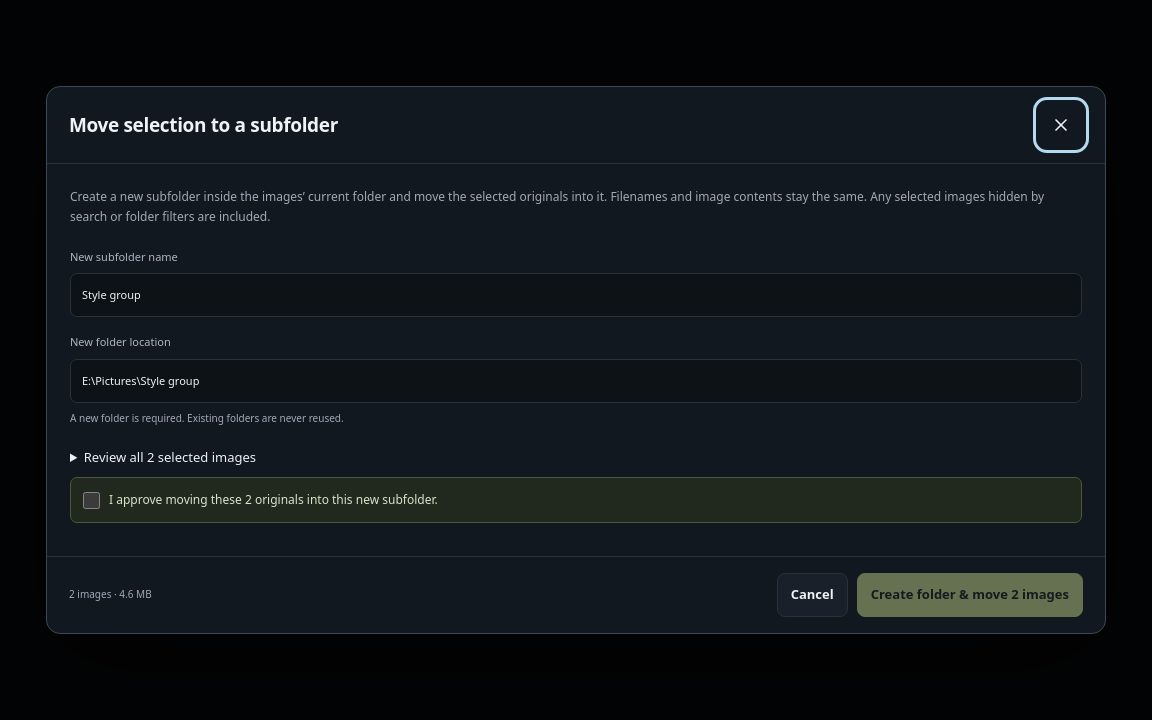
Test case: move selected images into a style subfolder › keeps the dialog open and ranking disabled until the returned catalog is saved
Replace the text in the field labelled "New subfolder name" with "Ink" at (576, 296), box left=70, top=274, right=1082, bottom=318
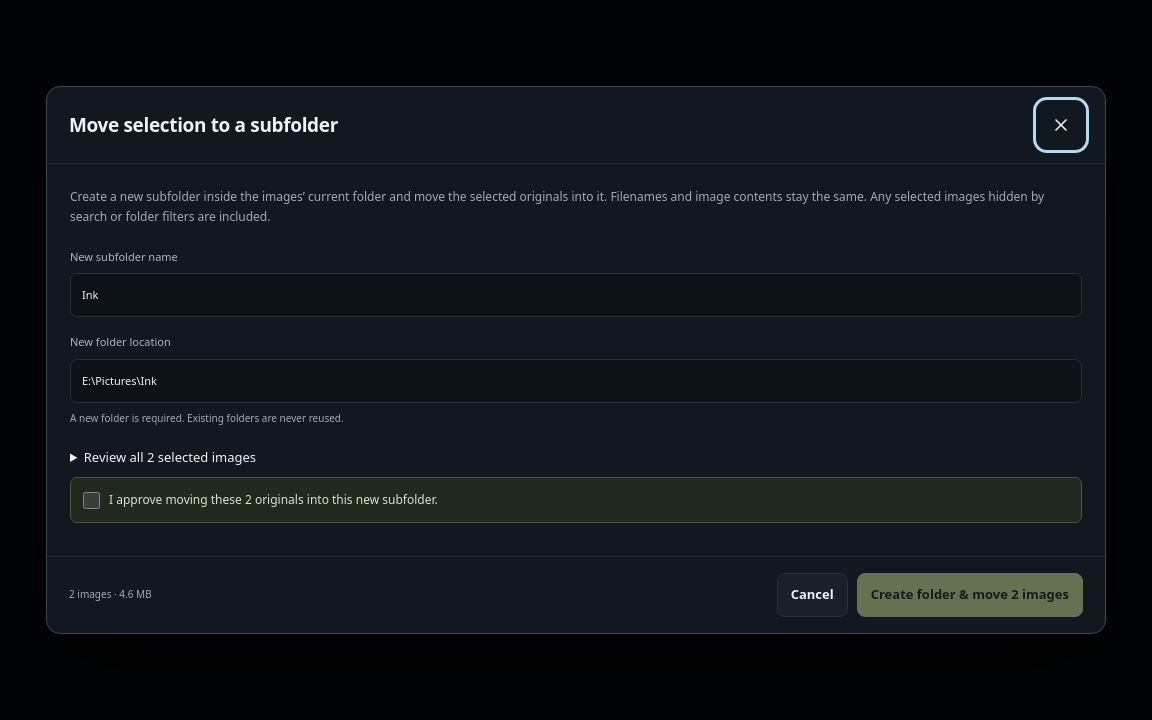
Click the checkbox labelled "I approve moving these 2 originals into this new subfolder." at (92, 500), box left=83, top=492, right=100, bottom=508
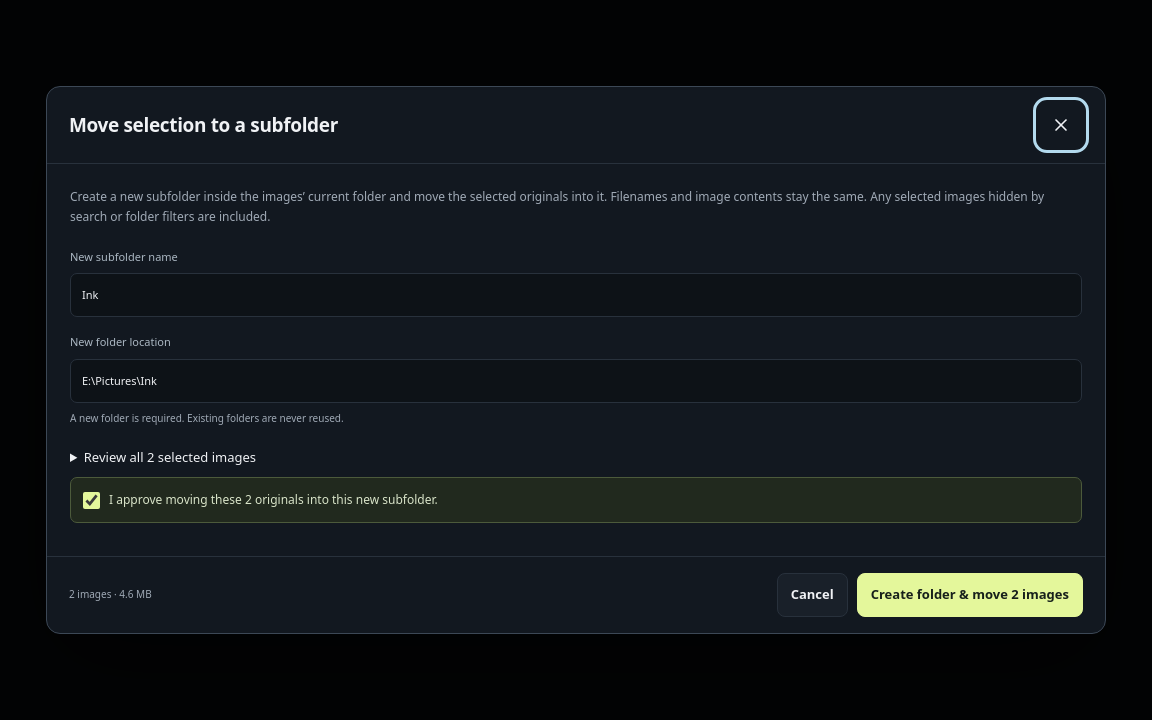
Click the button "Create folder & move 2 images" at (970, 595), box left=857, top=573, right=1083, bottom=617
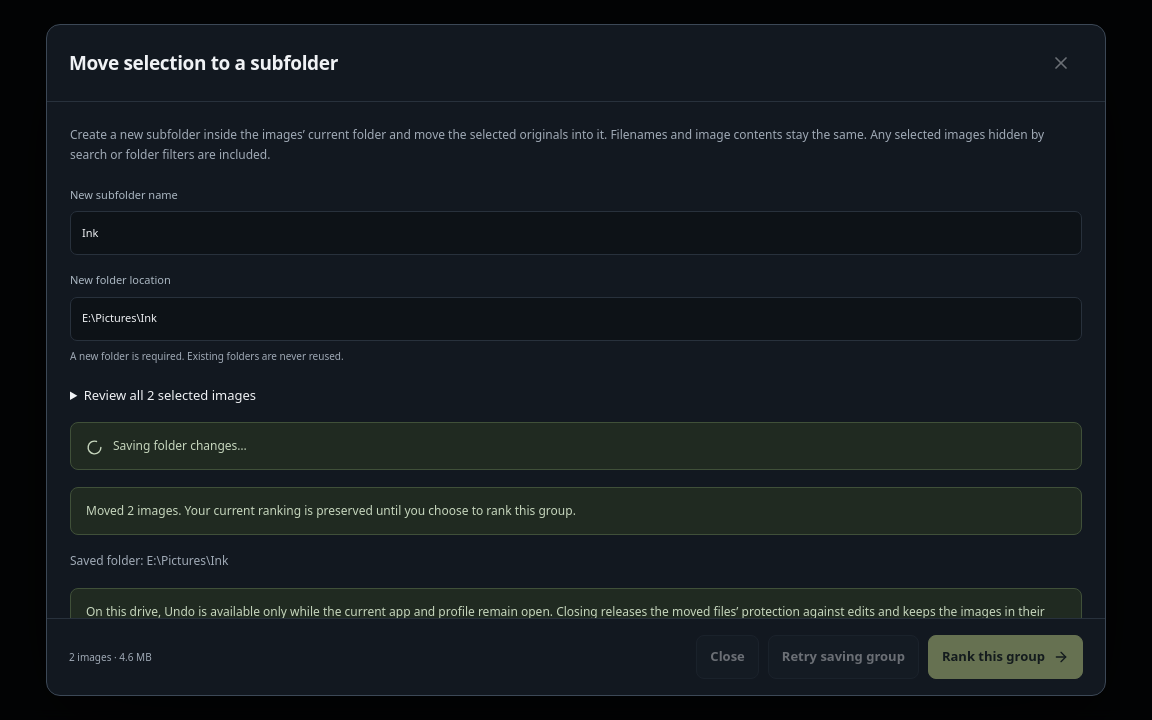
expect the button "Rank this group" is disabled: met, box left=928, top=635, right=1083, bottom=679
expect the button named "Close dialog" is disabled: met, box left=1039, top=41, right=1083, bottom=85
Press Escape in the dialog
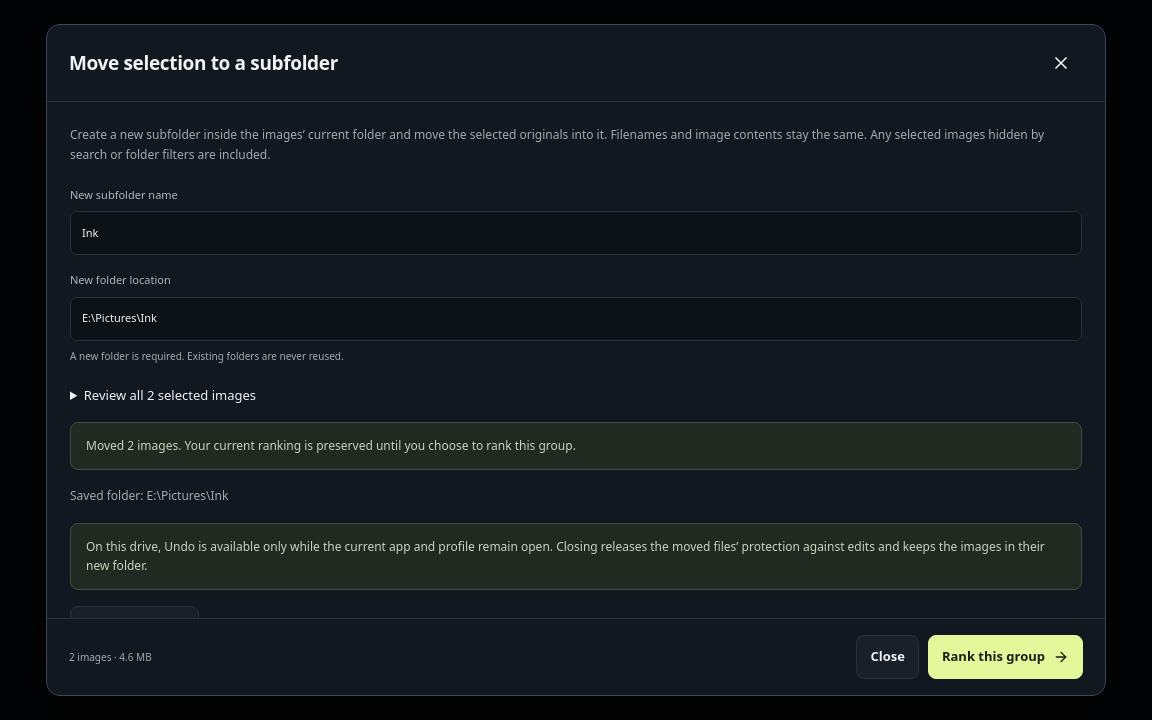
expect the button "Rank this group" is enabled: met, box left=928, top=635, right=1083, bottom=679
